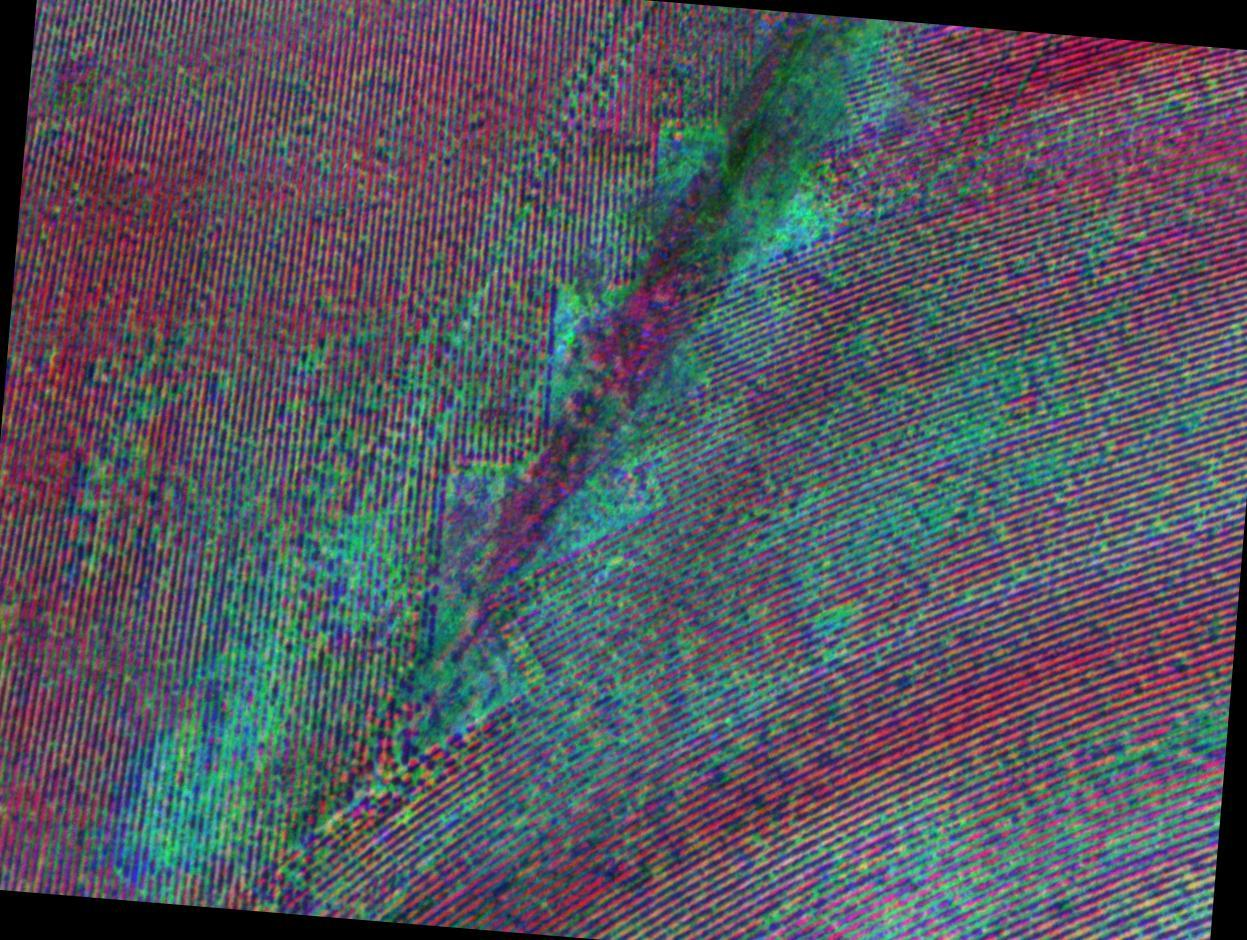dc: (148, 720, 245, 853), (238, 528, 334, 621), (738, 148, 818, 245), (956, 358, 1036, 451), (883, 810, 963, 891), (863, 483, 932, 546)
